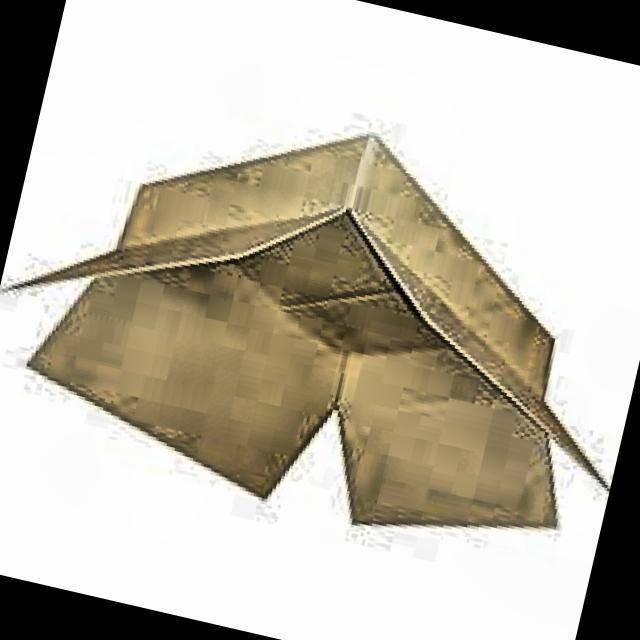cardboard: (0, 61, 640, 585)
